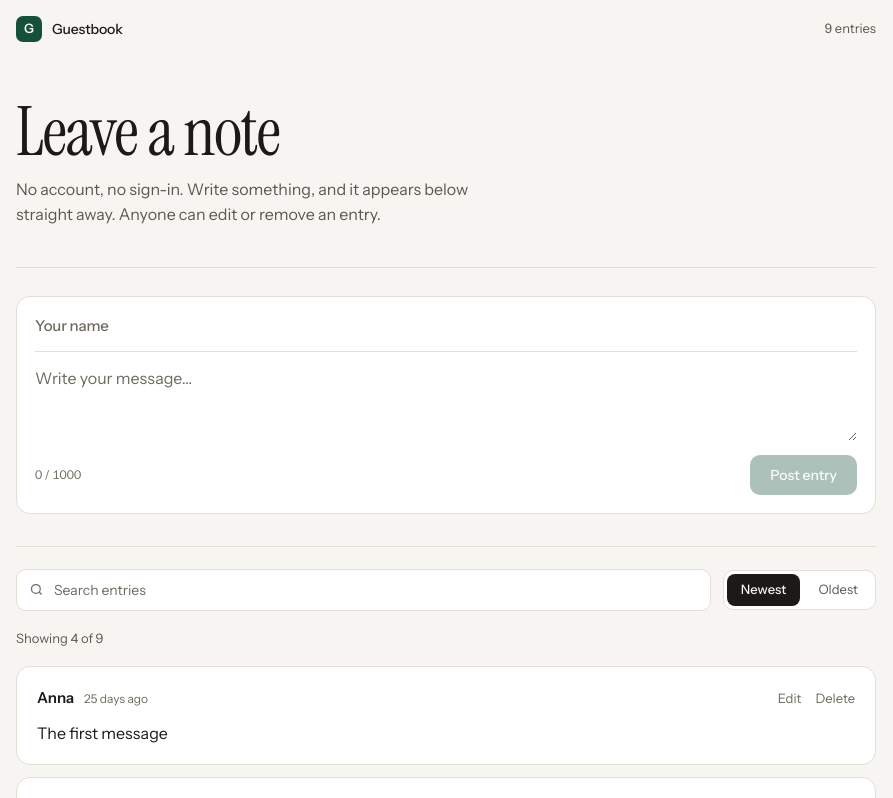
Test case: reordering › asks the server for the other end of the book [req:CR-2609-9b1e/R-3]
Check: the text "The first message" is shown, box x1=37 y1=723 x2=168 y2=743
Click the button "Oldest" at (838, 590), box x1=804 y1=574 x2=872 y2=606
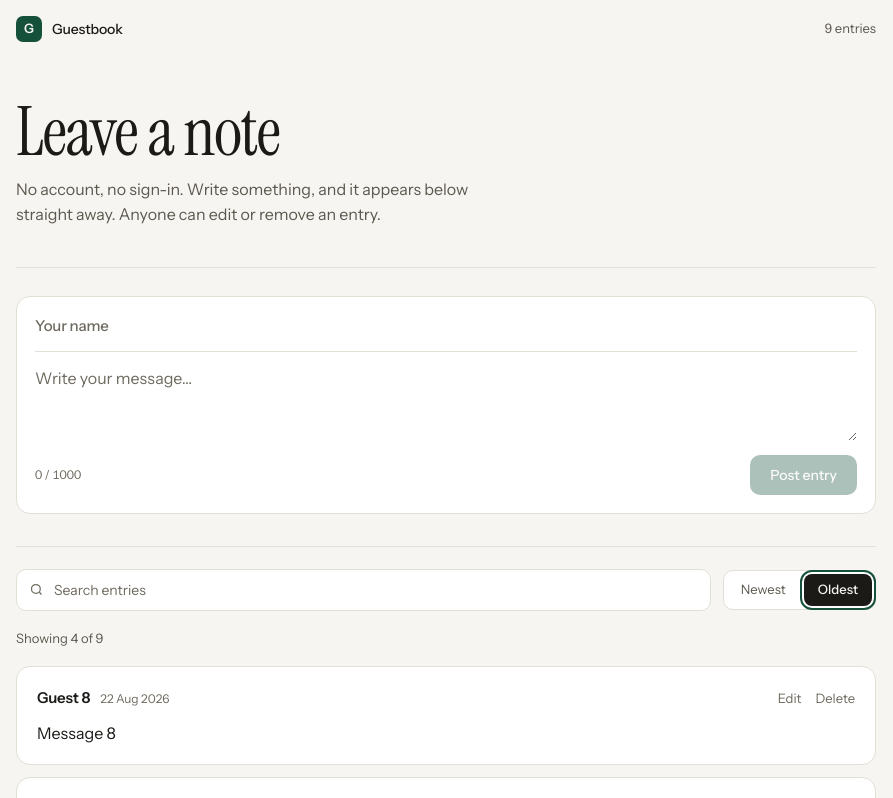
Check: the text "Guest 8" is shown, box x1=37 y1=687 x2=90 y2=710
